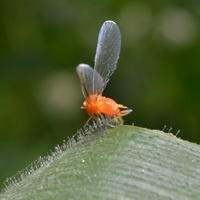insect: (76, 21, 131, 124)
